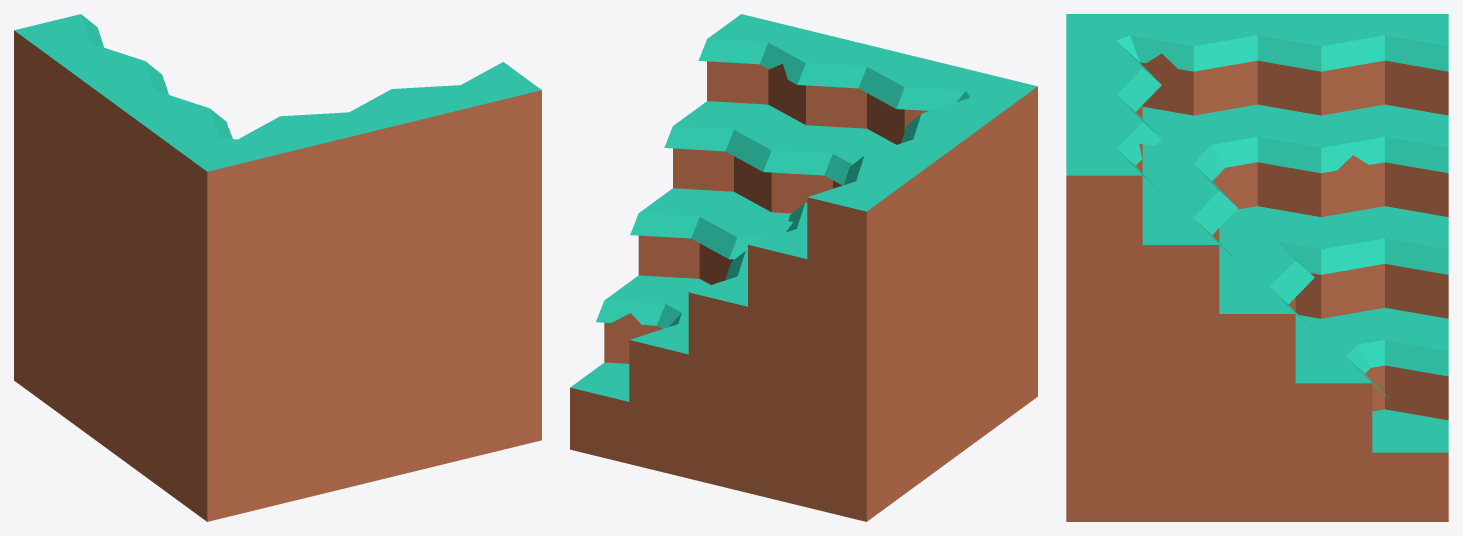
Rendered from cliff_stepsCornerInner_rock.glb.
3 views of the same model, side by side, from view 1: azimuth 30°, elevation 25°; view 2: azimuth 150°, elevation 25°; view 3: azimuth 270°, elevation 25° (orthographic). The views are drawn at different scales.
Parts seen in each view (by area): view 1: cliff_stepsCornerInner_rock; view 2: cliff_stepsCornerInner_rock; view 3: cliff_stepsCornerInner_rock.
Boxes of the visible parts, x1,y1,x2,y2 form: cliff_stepsCornerInner_rock: [14, 14, 541, 521]; cliff_stepsCornerInner_rock: [570, 14, 1037, 521]; cliff_stepsCornerInner_rock: [1066, 14, 1448, 521].
Bounding box in the file's own units: 1 × 1 × 1.
